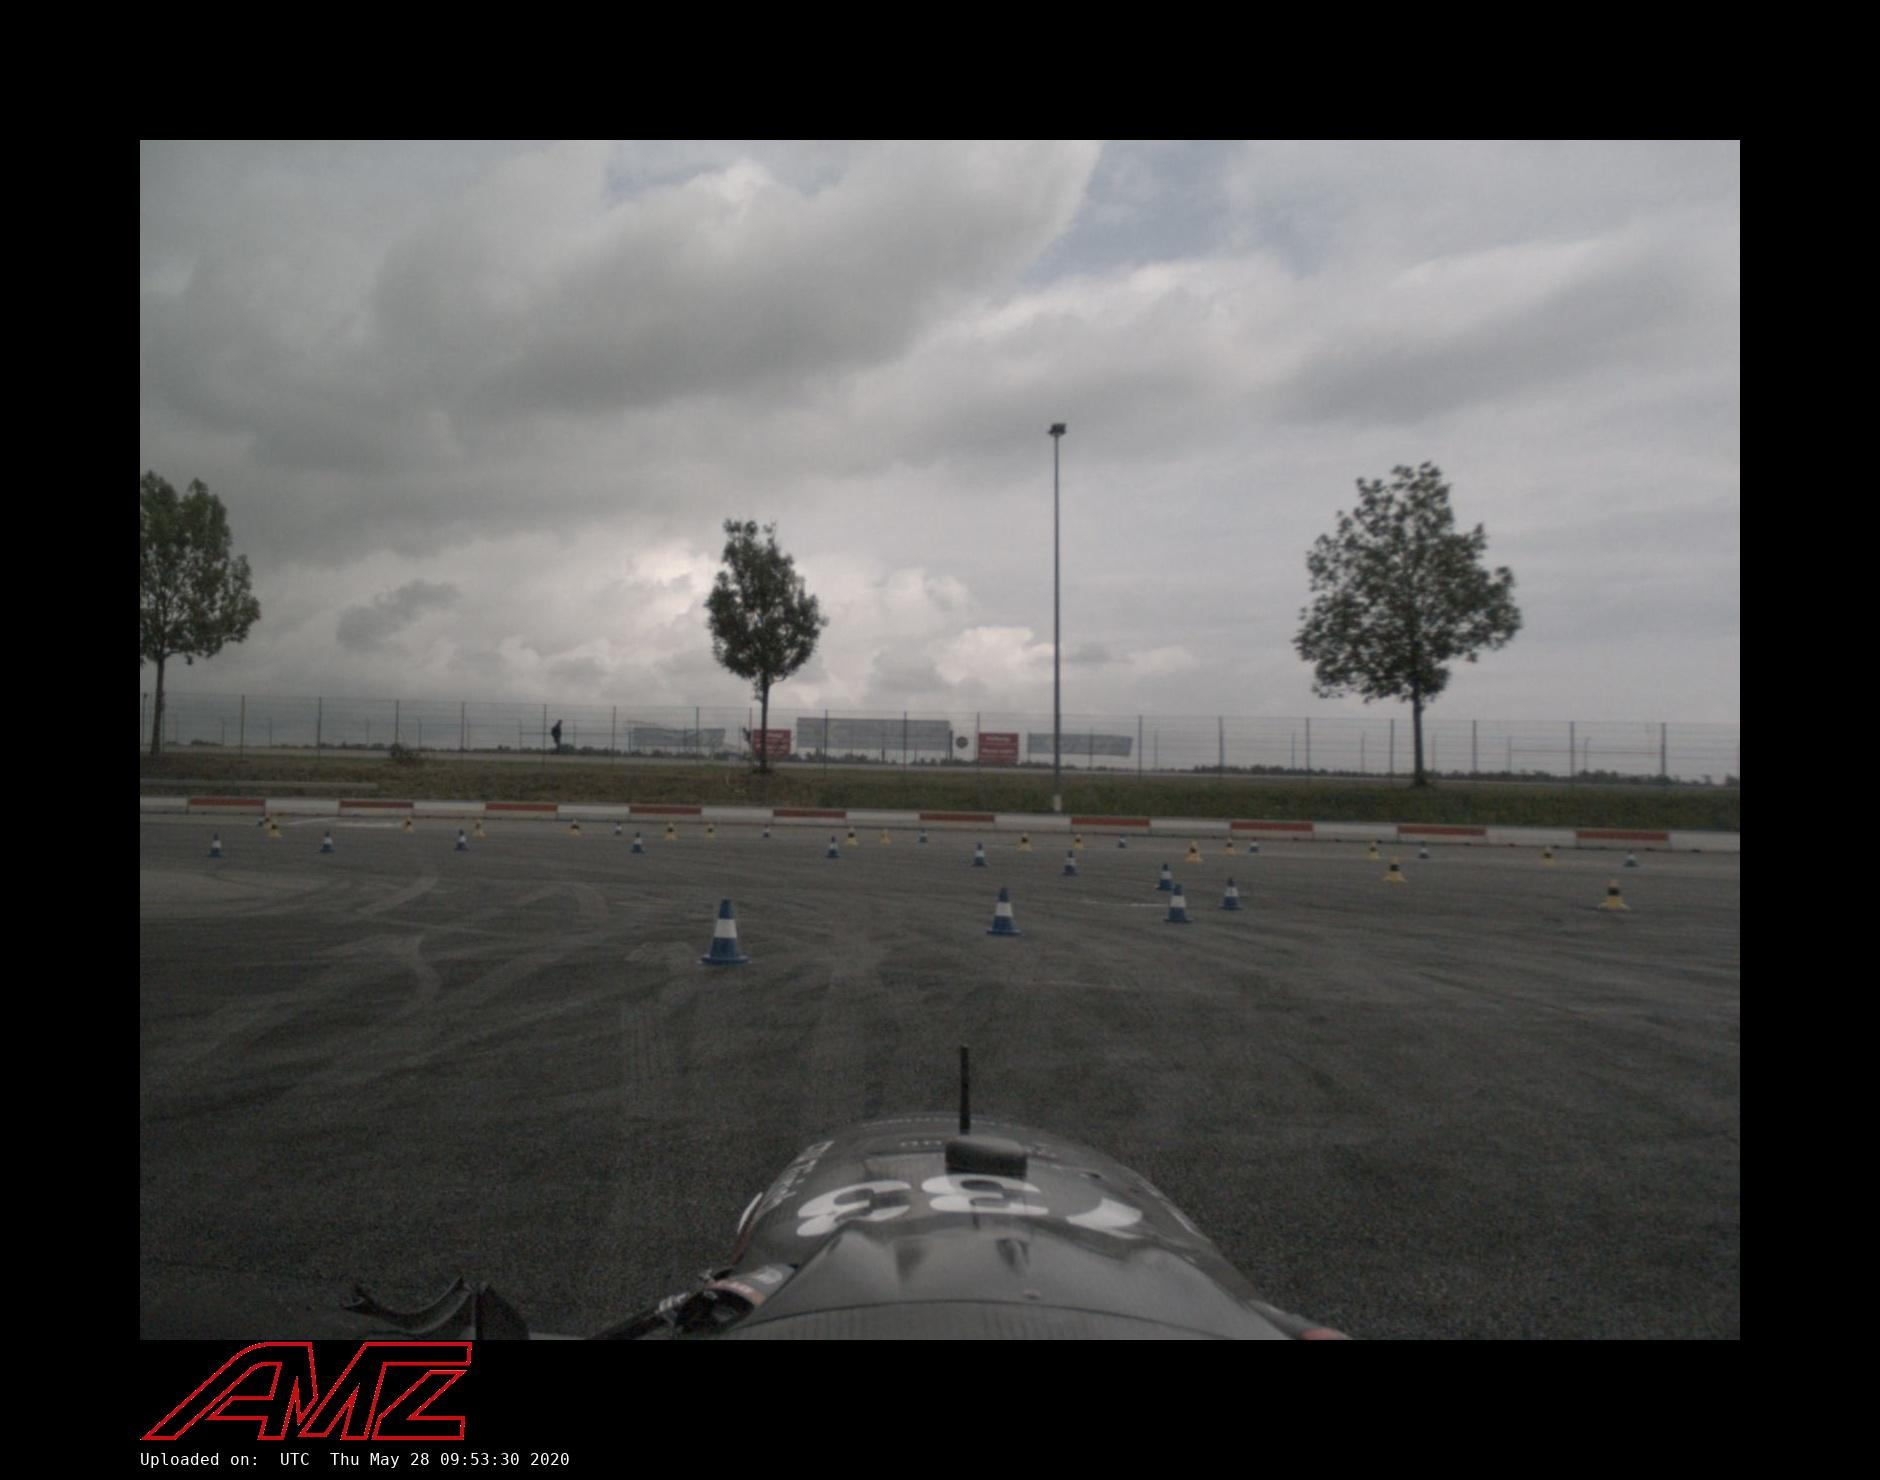blue_cone: (700, 897, 749, 966), (987, 886, 1022, 935), (1164, 883, 1193, 923), (1219, 876, 1244, 911), (1157, 862, 1177, 891), (208, 832, 224, 857), (971, 844, 987, 868), (824, 835, 841, 859), (1062, 850, 1077, 876), (319, 832, 336, 854), (629, 832, 645, 854), (455, 828, 467, 851), (1624, 848, 1637, 868), (1248, 838, 1260, 854), (761, 821, 772, 838), (1419, 841, 1428, 859), (613, 819, 623, 836), (919, 828, 928, 844), (1119, 835, 1126, 848)
yellow_cone: (1601, 877, 1628, 909), (1383, 857, 1404, 882), (1186, 841, 1202, 864), (1540, 844, 1556, 867), (267, 818, 282, 839), (472, 819, 487, 839), (662, 822, 678, 841), (1222, 838, 1236, 857), (401, 816, 415, 835), (845, 825, 858, 845), (1019, 832, 1032, 851), (703, 821, 716, 841), (569, 819, 581, 839), (1367, 841, 1379, 857), (1073, 835, 1083, 851)
